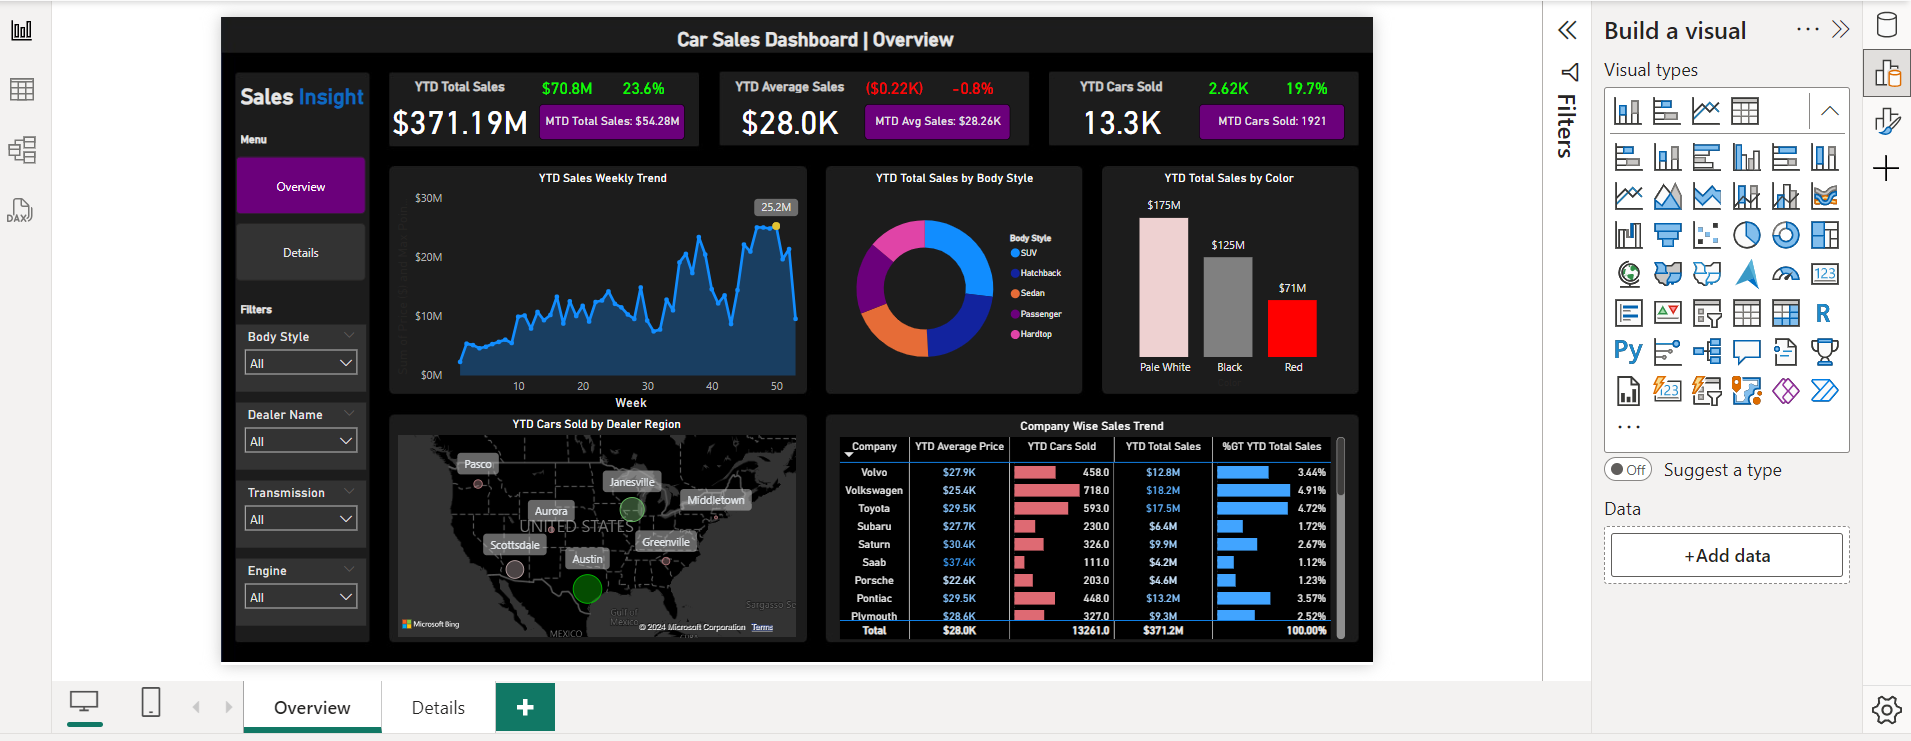

What the dashboard file says about the page in this screenshot:
{"tool":"powerbi","page":{"name":"Overview","canvas":[1280,720],"ordinal":0},"visuals":[{"type":"card","title":"YTD Total Sales","fields":{"Values":["car_data.YTD Total Sales"]},"box":[187.5,68.7,154.2,69.9],"z":0},{"type":"card","title":"YTD Total Sales","fields":{"Values":["car_data.Sales Difference"]},"box":[341.2,60.4,85.8,39.7],"z":1000},{"type":"card","title":"YTD Total Sales","fields":{"Values":["car_data.YoY Sales Growth"]},"box":[427.1,60.4,85.8,39.7],"z":2000},{"type":"card","title":"YTD Total Sales","fields":{"Values":["car_data.MTD KPI"]},"box":[352.8,97.3,162.1,39.7],"z":3000},{"type":"card","title":"YTD Average Sales","fields":{"Values":["car_data.YTD Average Price"]},"box":[555.2,68.7,154.2,69.9],"z":4000},{"type":"card","title":"YTD Total Sales","fields":{"Values":["car_data.Average Sales Difference"]},"box":[705.7,60.4,85.8,39.7],"z":5000},{"type":"card","title":"YTD Total Sales","fields":{"Values":["car_data.YoY Average Sales Growth"]},"box":[792,60.4,85.8,39.7],"z":6000},{"type":"card","title":"YTD Total Sales","fields":{"Values":["car_data.MTD Average KPI"]},"box":[715.2,97.3,162.1,39.7],"z":7000},{"type":"card","title":"YTD Cars Sold","fields":{"Values":["car_data.YTD Cars Sold"]},"box":[922.8,68.7,154.2,69.9],"z":8000},{"type":"card","title":"YTD Total Sales","fields":{"Values":["car_data.Cars Sold Difference"]},"box":[1077,60.4,85.8,39.7],"z":9000},{"type":"card","title":"YTD Total Sales","fields":{"Values":["car_data.YoY Cars Sold Growth"]},"box":[1163.3,60.4,85.8,39.7],"z":10000},{"type":"card","title":"YTD Total Sales","fields":{"Values":["car_data.MTD Cars KPI"]},"box":[1086.6,97.3,162.1,39.7],"z":11000},{"type":"areaChart","title":"YTD Sales Weekly Trend","fields":{"Category":["Calendar Table.Week"],"Y":["Sum(car_data.Price ($))","car_data.Max Point on Area Chart"]},"box":[188.4,172.2,471.9,269.4],"z":12000},{"type":"donutChart","fields":{"Y":["car_data.YTD Total Sales"],"Category":["car_data.Body Style"]},"box":[681.9,171.7,267,244.8],"z":13000},{"type":"columnChart","fields":{"Category":["car_data.Color"],"Y":["car_data.YTD Total Sales"]},"box":[987,171.7,267,244.8],"z":14000},{"type":"map","title":"YTD Cars Sold by Dealer Region","fields":{"Category":["car_data.Dealer_Region"],"Size":["car_data.YTD Cars Sold"]},"box":[192.4,445.6,451.6,249.1],"z":15000},{"type":"tableEx","title":"Company Wise Sales Trend","fields":{"Values":["car_data.Company","car_data.YTD Average Price","car_data.YTD Cars Sold","car_data.YTD Total Sales1","car_data.YTD Total Sales"]},"box":[681.9,446.6,572.2,249.5],"z":16000},{"type":"textbox","box":[435.5,6.4,451.4,39.7],"z":17000},{"type":"slicer","fields":{"Values":["car_data.Body Style"]},"box":[15.9,341.7,144.6,74.7],"z":18000},{"type":"slicer","fields":{"Values":["car_data.Dealer_Name"]},"box":[15.9,428.6,144.6,74.7],"z":19000},{"type":"slicer","fields":{"Values":["car_data.Transmission"]},"box":[15.9,515.5,144.6,74.7],"z":20000},{"type":"slicer","fields":{"Values":["car_data.Engine"]},"box":[15.9,602.4,144.6,74.7],"z":21000},{"type":"textbox","box":[15.9,308.3,62,33.4],"z":22000},{"type":"textbox","box":[15.9,120.8,62,33.4],"z":23000},{"type":"textbox","box":[15.9,68.3,149.4,68.3],"z":24000},{"type":"pageNavigator","box":[17.5,154.2,144.6,139.9],"z":25000}]}

Visuals, with their boxes on the page's 1280x720 design canvas (x1, y1, x2, y2). These are canvas units, not pixel positions in the 1911x741 screenshot, which may show the page scaled, cropped or inside an application window:
"YTD Total Sales" card: [188, 69, 342, 139]
"YTD Total Sales" card: [341, 60, 427, 100]
"YTD Total Sales" card: [427, 60, 513, 100]
"YTD Total Sales" card: [353, 97, 515, 137]
"YTD Average Sales" card: [555, 69, 709, 139]
"YTD Total Sales" card: [706, 60, 792, 100]
"YTD Total Sales" card: [792, 60, 878, 100]
"YTD Total Sales" card: [715, 97, 877, 137]
"YTD Cars Sold" card: [923, 69, 1077, 139]
"YTD Total Sales" card: [1077, 60, 1163, 100]
"YTD Total Sales" card: [1163, 60, 1249, 100]
"YTD Total Sales" card: [1087, 97, 1249, 137]
"YTD Sales Weekly Trend" areaChart: [188, 172, 660, 442]
donutChart - car_data.YTD Total Sales x car_data.Body Style: [682, 172, 949, 416]
columnChart - car_data.Color x car_data.YTD Total Sales: [987, 172, 1254, 416]
"YTD Cars Sold by Dealer Region" map: [192, 446, 644, 695]
"Company Wise Sales Trend" tableEx: [682, 447, 1254, 696]
textbox: [436, 6, 887, 46]
slicer - car_data.Body Style: [16, 342, 160, 416]
slicer - car_data.Dealer_Name: [16, 429, 160, 503]
slicer - car_data.Transmission: [16, 516, 160, 590]
slicer - car_data.Engine: [16, 602, 160, 677]
textbox: [16, 308, 78, 342]
textbox: [16, 121, 78, 154]
textbox: [16, 68, 165, 137]
pageNavigator: [18, 154, 162, 294]
